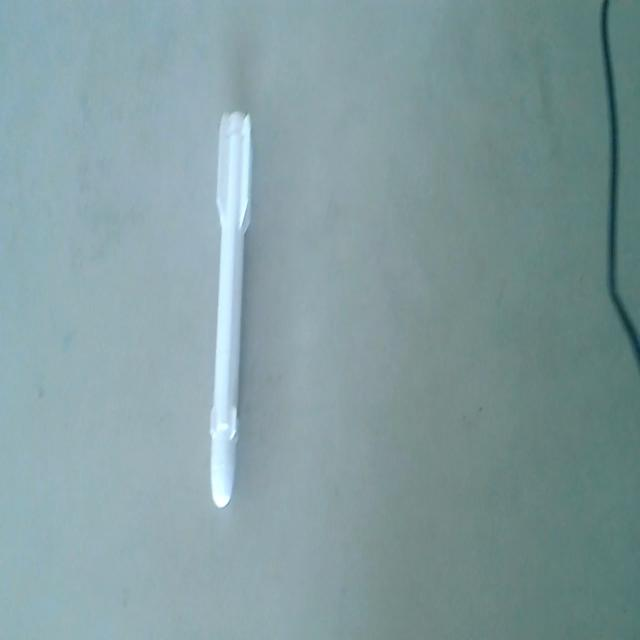Rocket: (206, 109, 257, 512)
